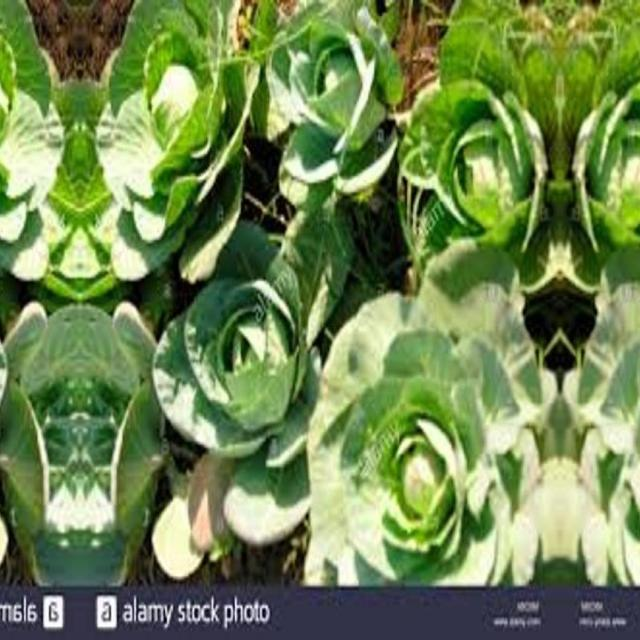healthy: (80, 0, 278, 272), (398, 0, 560, 310), (80, 280, 182, 576), (274, 1, 404, 206), (560, 0, 640, 310), (0, 280, 80, 576), (0, 0, 79, 271)
